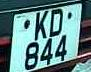4: (40, 38, 55, 67), (54, 33, 68, 63)
8: (23, 40, 40, 72)
D: (48, 7, 65, 40)
K: (32, 13, 49, 41)
